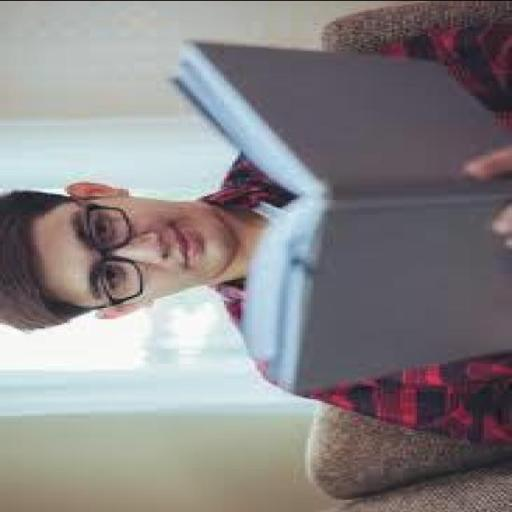glasses: (66, 178, 166, 328)
